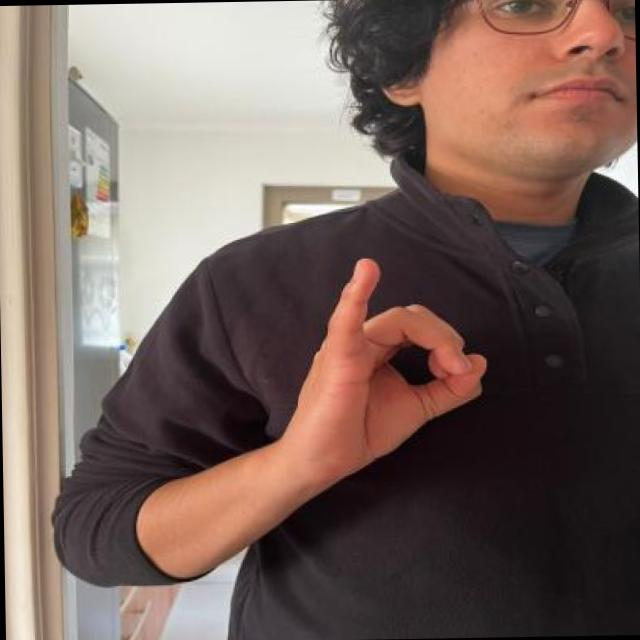D: (294, 246, 504, 460)
